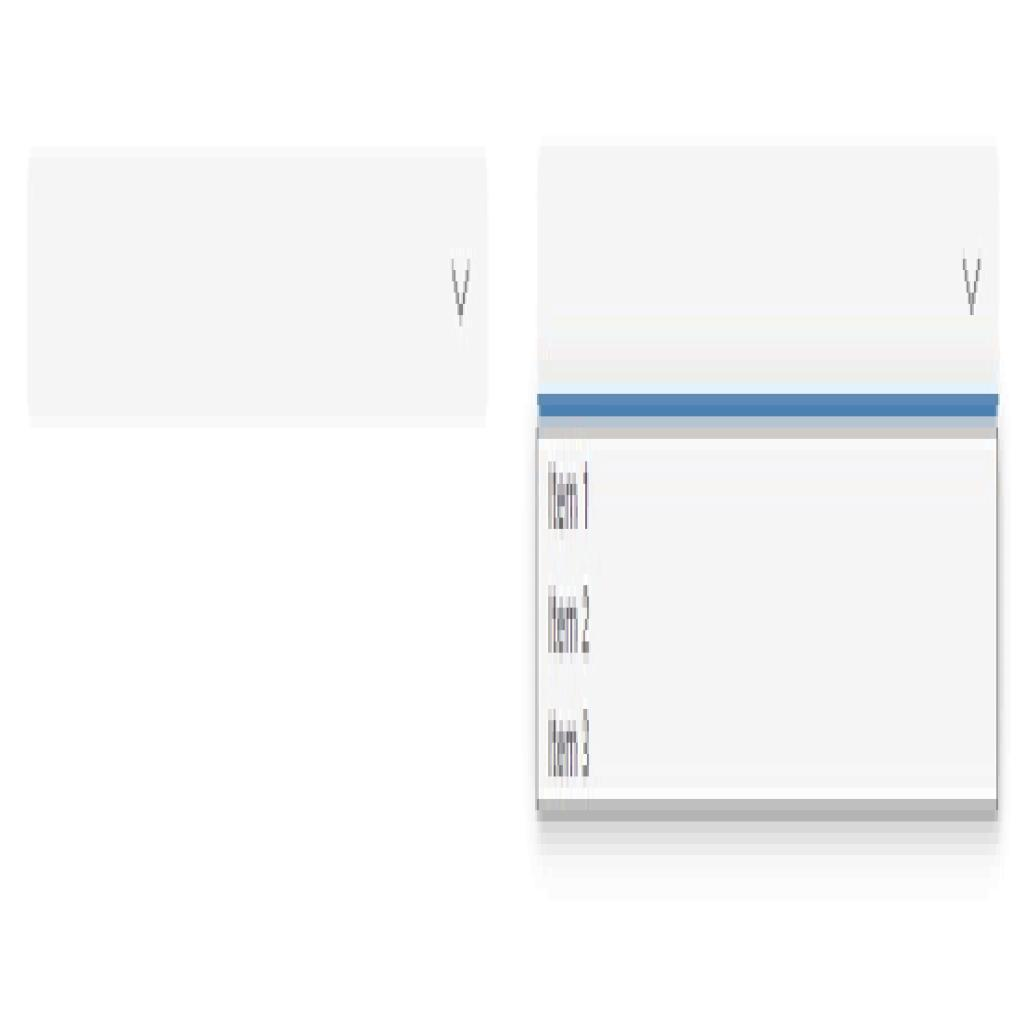dropdown: (28, 148, 498, 434), (535, 140, 998, 402)
